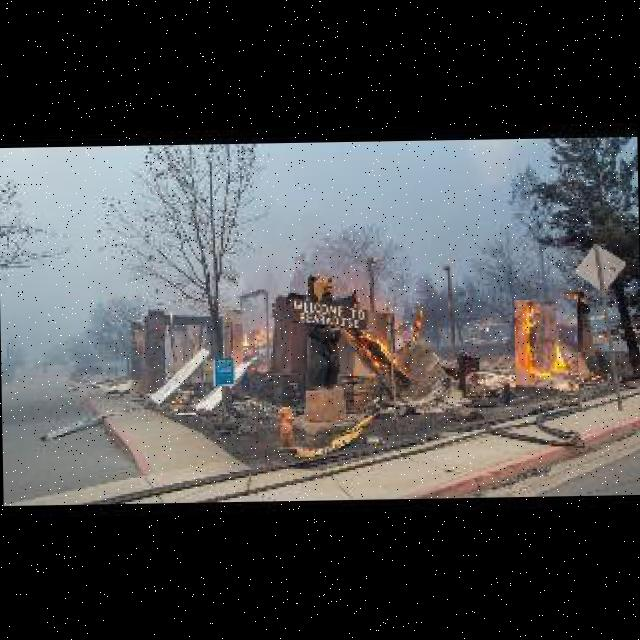fire: (514, 298, 578, 396)
